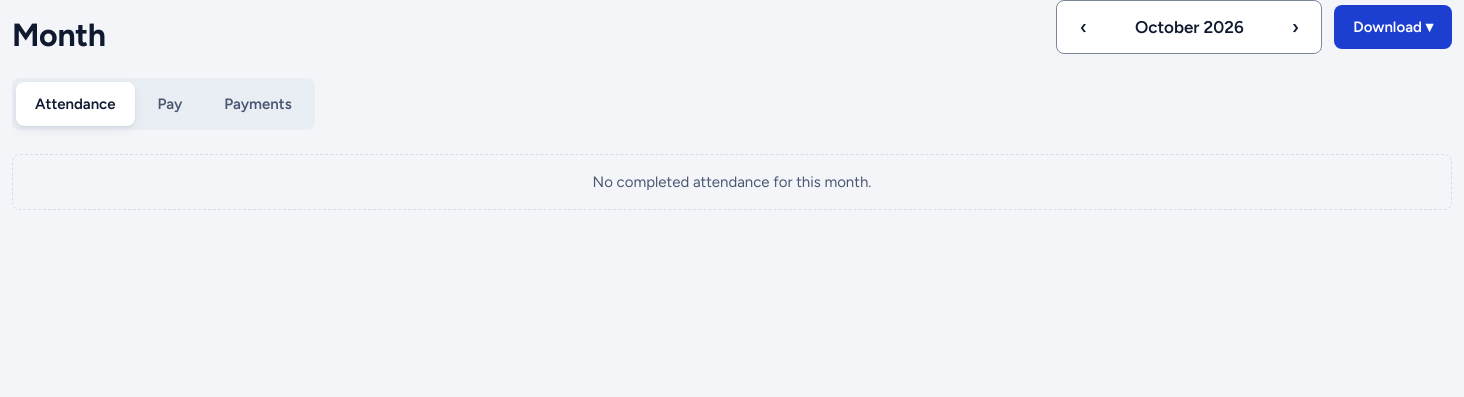
Month · Payments › says so when nothing is logged
Click the button "Payments" at {"x": 258, "y": 104}, box [205,82,311,126]
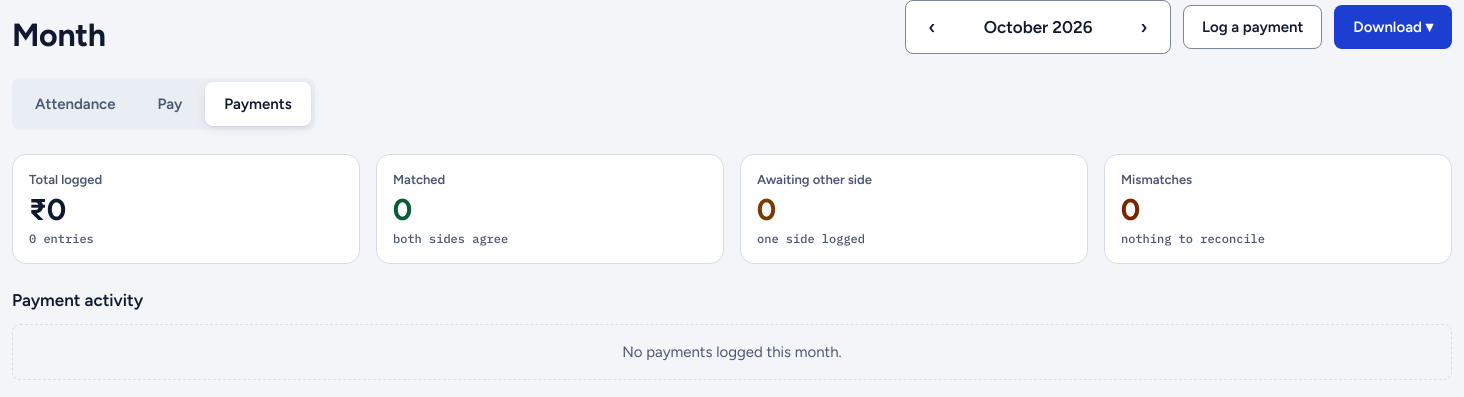
Now the text "No payments logged this month." is shown, box [12,324,1452,380]
